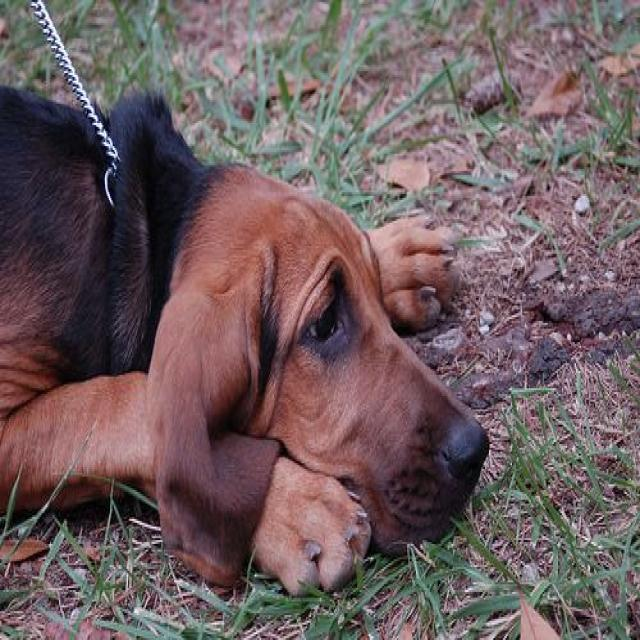bloodhound: (0, 78, 494, 600)
